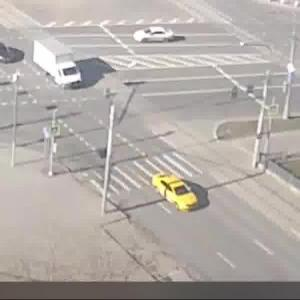car: (34, 38, 82, 91), (152, 172, 198, 213), (135, 25, 177, 47), (1, 38, 17, 63)
